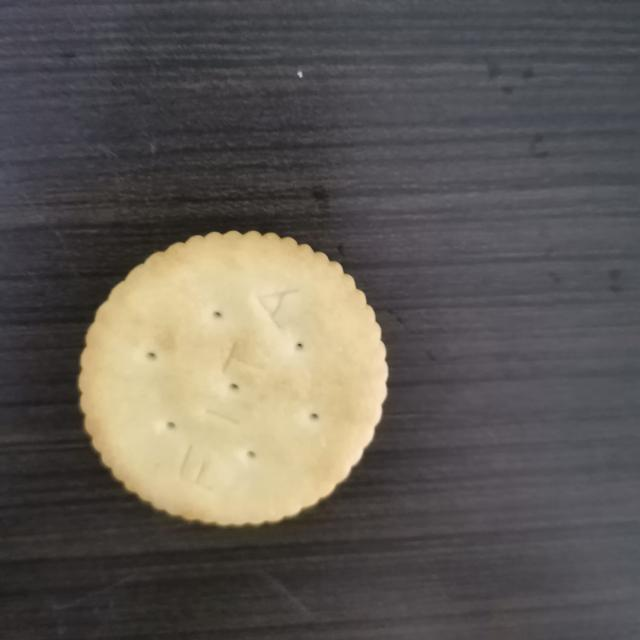Intact: (59, 216, 405, 542)
